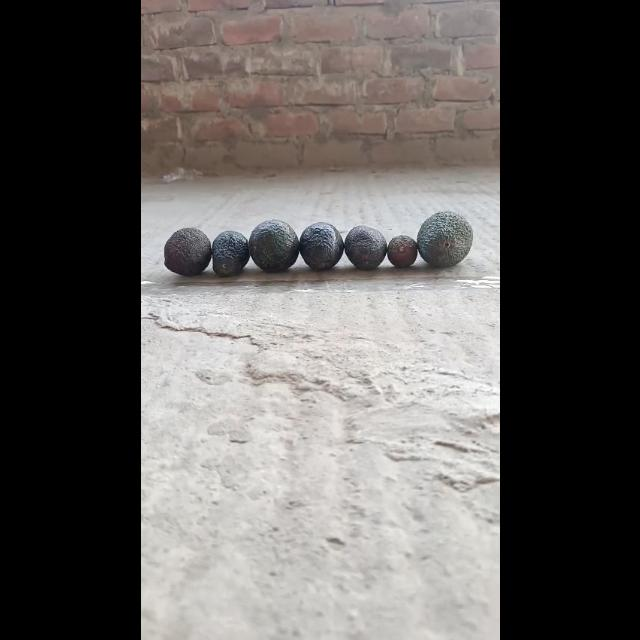Primera: (416, 210, 472, 266), (248, 219, 298, 271)
Segunda: (162, 227, 212, 276), (298, 223, 342, 270), (343, 224, 387, 270), (210, 230, 250, 276)
Tercera: (386, 234, 418, 268)
